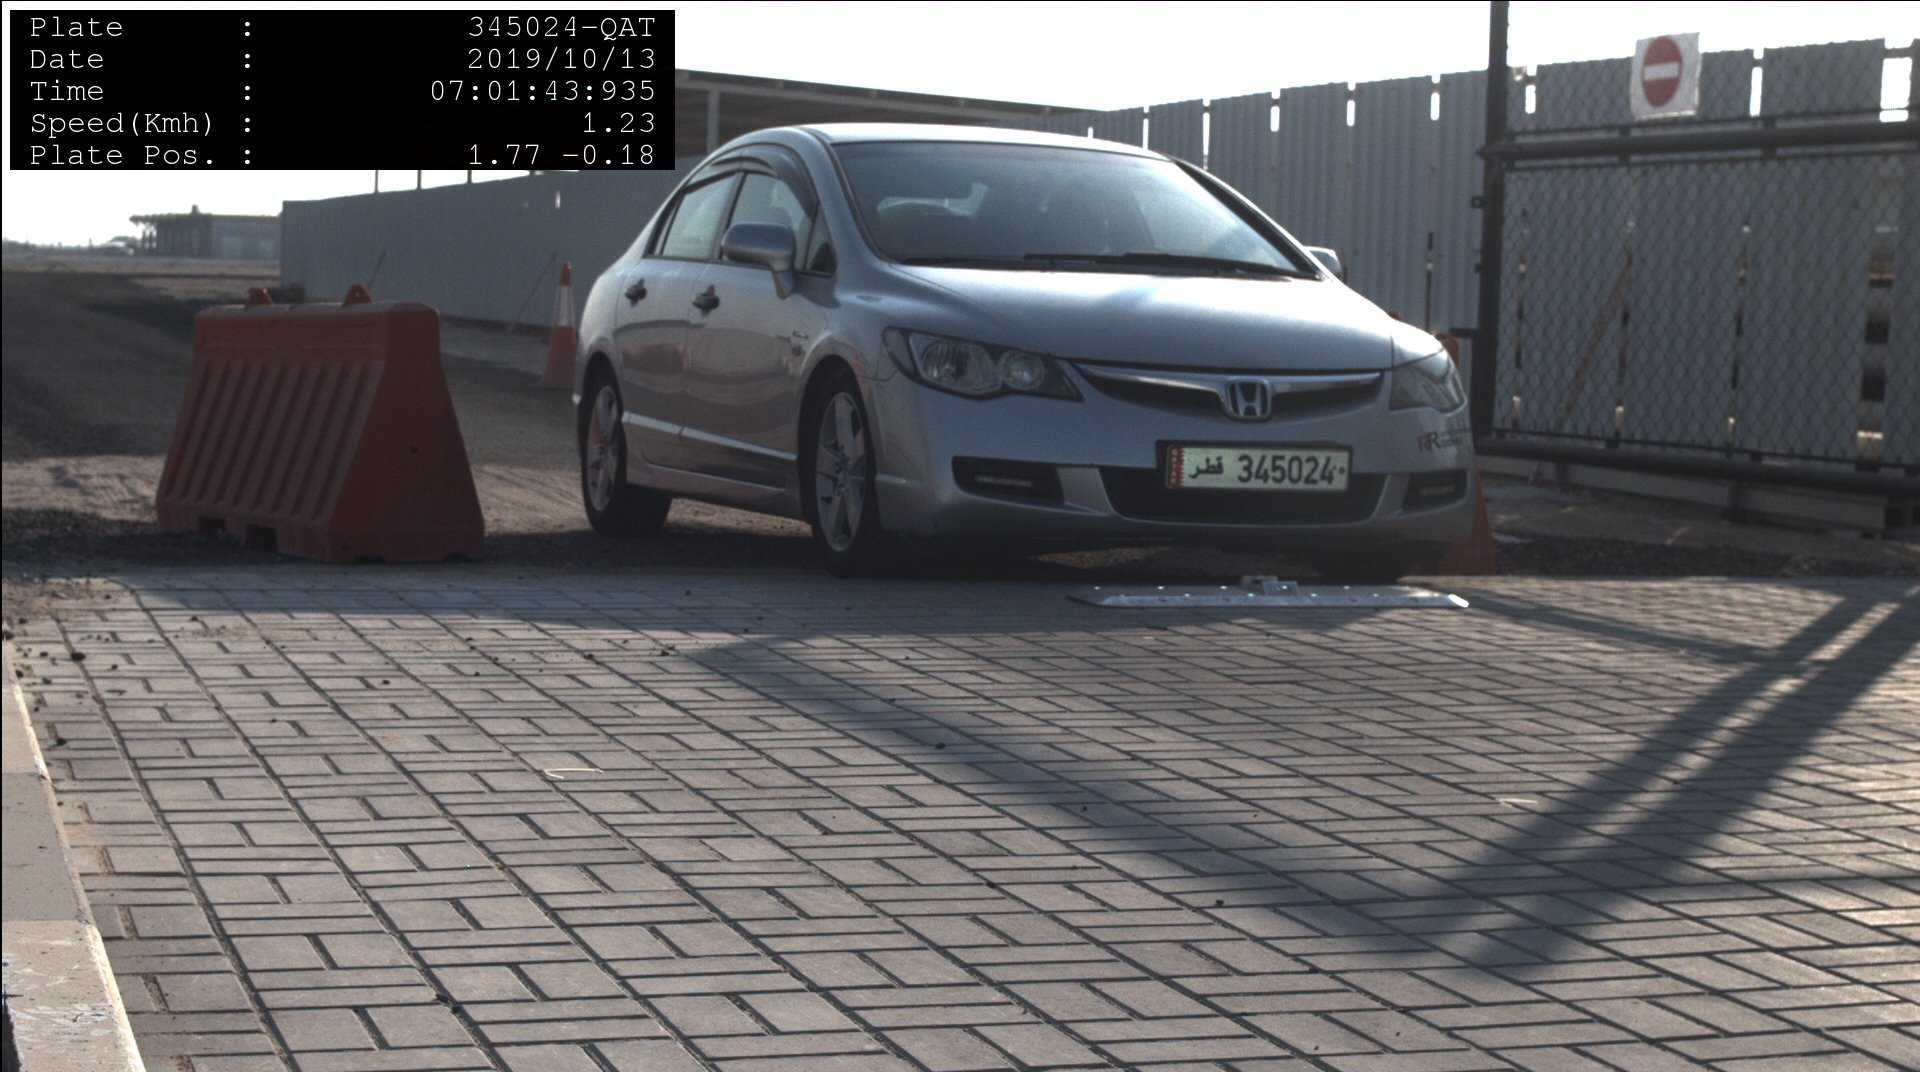License Plate: (1162, 443, 1352, 495)
